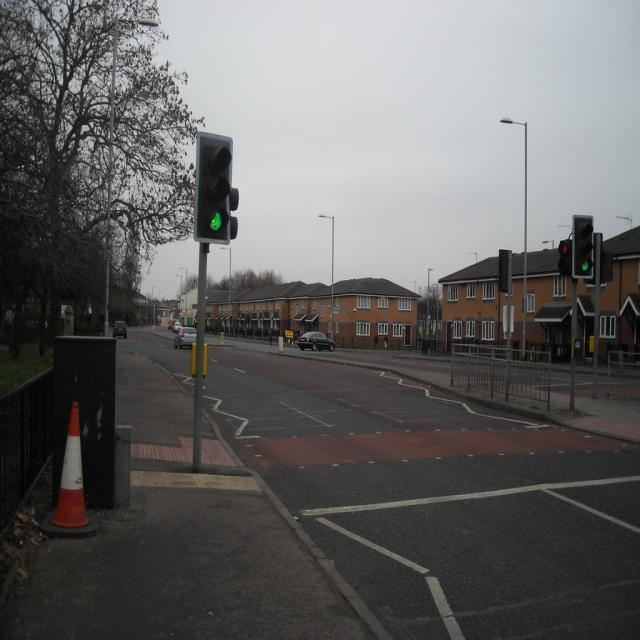traffic light: (196, 129, 233, 245), (572, 215, 594, 277), (558, 239, 573, 277)
